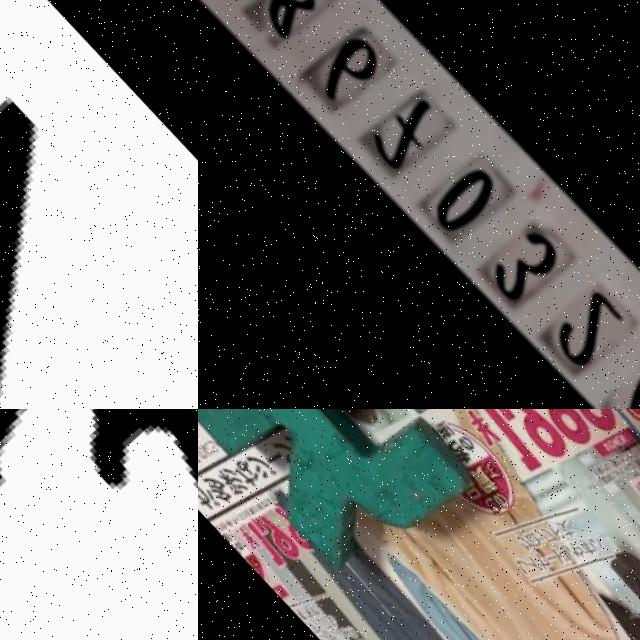0: (402, 147, 510, 248)
2: (520, 275, 628, 376)
3: (459, 210, 567, 311)
6: (288, 19, 391, 115), (580, 337, 640, 409)
7: (343, 79, 454, 182)
8: (231, 0, 331, 50)
K: (198, 409, 485, 601)
Y: (0, 0, 198, 409)
